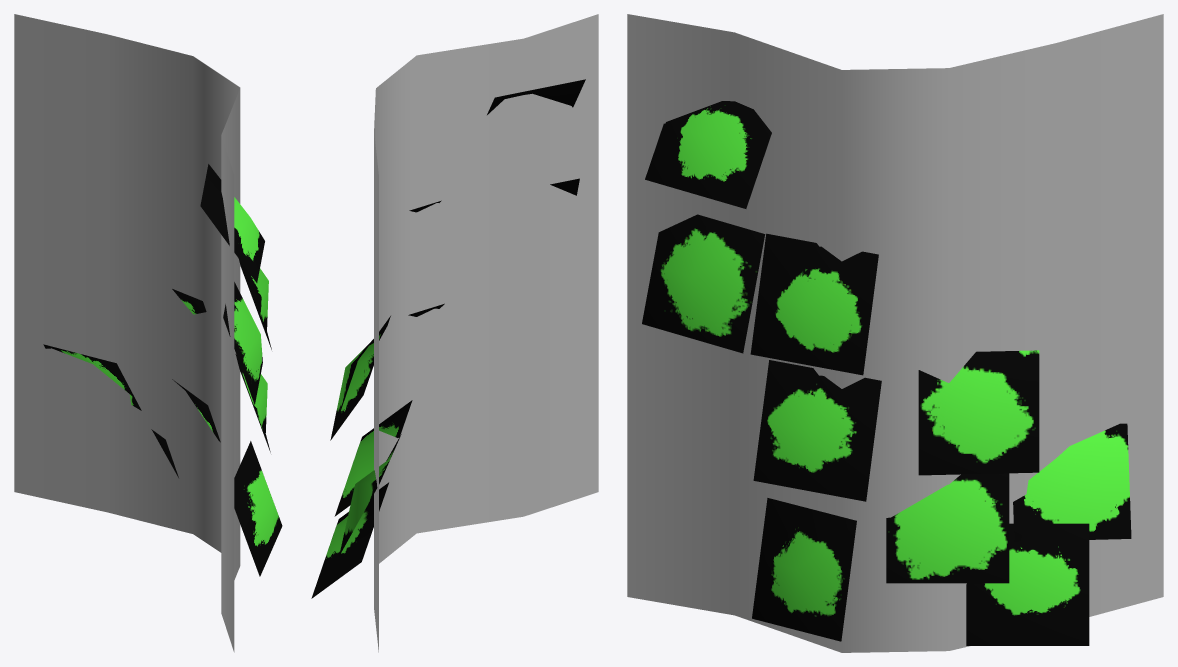
Rendered from vine01.fbx.
3 renders of one model, left to right at view 1: azimuth 30°, elevation 25°; view 2: azimuth 150°, elevation 25°; view 3: azimuth 270°, elevation 25°, orthographic. The views are drawn at different scales.
Parts seen in each view (by area): view 1: vine01; view 2: vine01; view 3: vine01.
Part boxes in pixels (x1,y1,x2,y2): vine01: (14, 14, 282, 652); vine01: (311, 14, 598, 652); vine01: (627, 14, 1163, 652).
Size of the model in its own units: 1.18 by 3.68 by 3.06.
